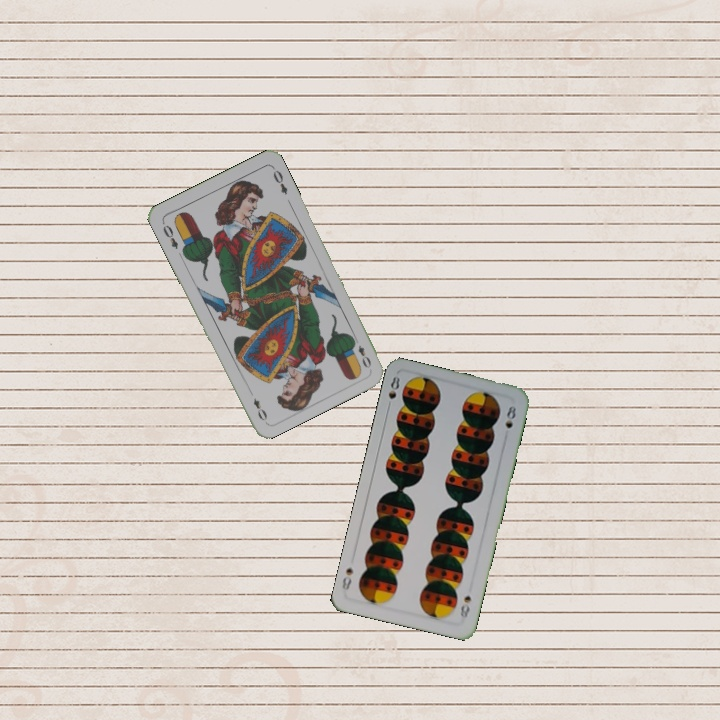EO: (349, 333, 374, 370), (158, 218, 181, 252)
S8: (383, 372, 402, 412), (456, 591, 474, 621)
